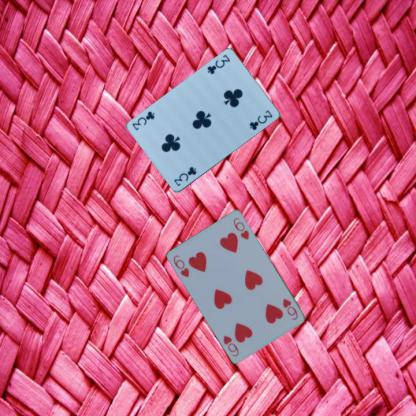3c: (204, 52, 232, 76), (171, 164, 198, 188)
6h: (170, 252, 191, 278), (280, 296, 300, 321)
